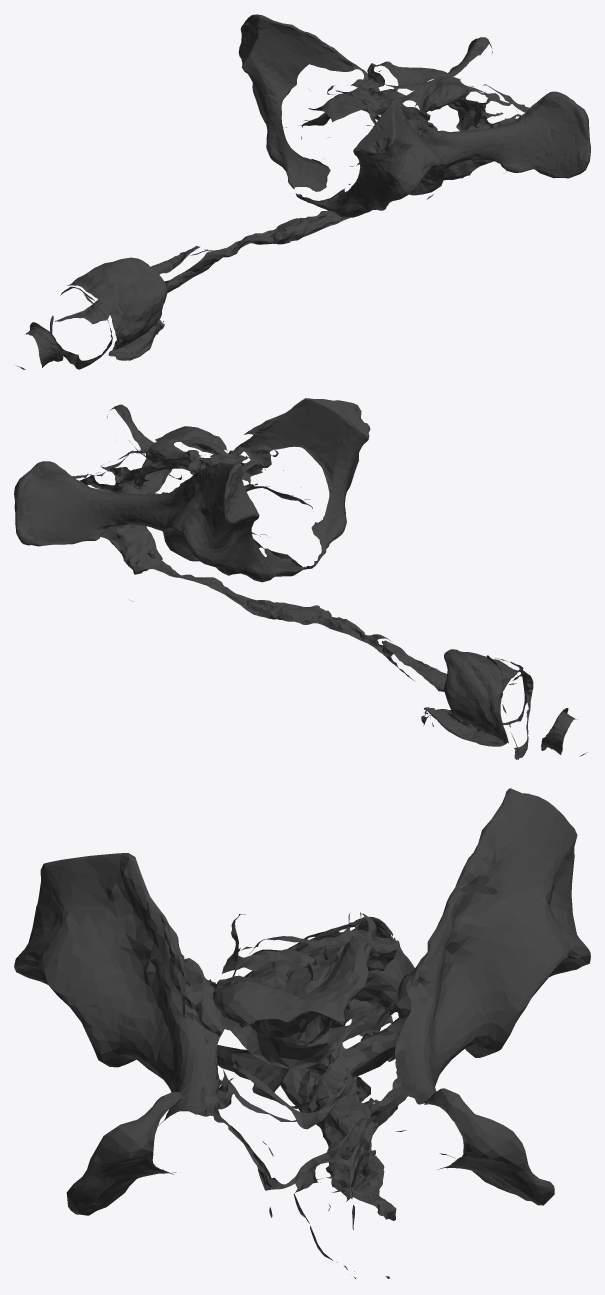
The model's file is eq_male_repro_blocker_meshoriginal26.glb.
3 renders of one model, top to bottom at view 1: azimuth 30°, elevation 25°; view 2: azimuth 150°, elevation 25°; view 3: azimuth 270°, elevation 25°, orthographic. The views are drawn at different scales.
Parts seen in each view (by area): view 1: eq_male_repro_blocker_meshoriginal26; view 2: eq_male_repro_blocker_meshoriginal26; view 3: eq_male_repro_blocker_meshoriginal26.
Part boxes in pixels (bbox=[...]): eq_male_repro_blocker_meshoriginal26: bbox=[14, 14, 590, 369]; eq_male_repro_blocker_meshoriginal26: bbox=[14, 398, 587, 759]; eq_male_repro_blocker_meshoriginal26: bbox=[14, 788, 590, 1278].
Size of the model in its own units: 0.2607 by 0.1264 by 0.1322.
Materials: 1 (1 with a texture image).
